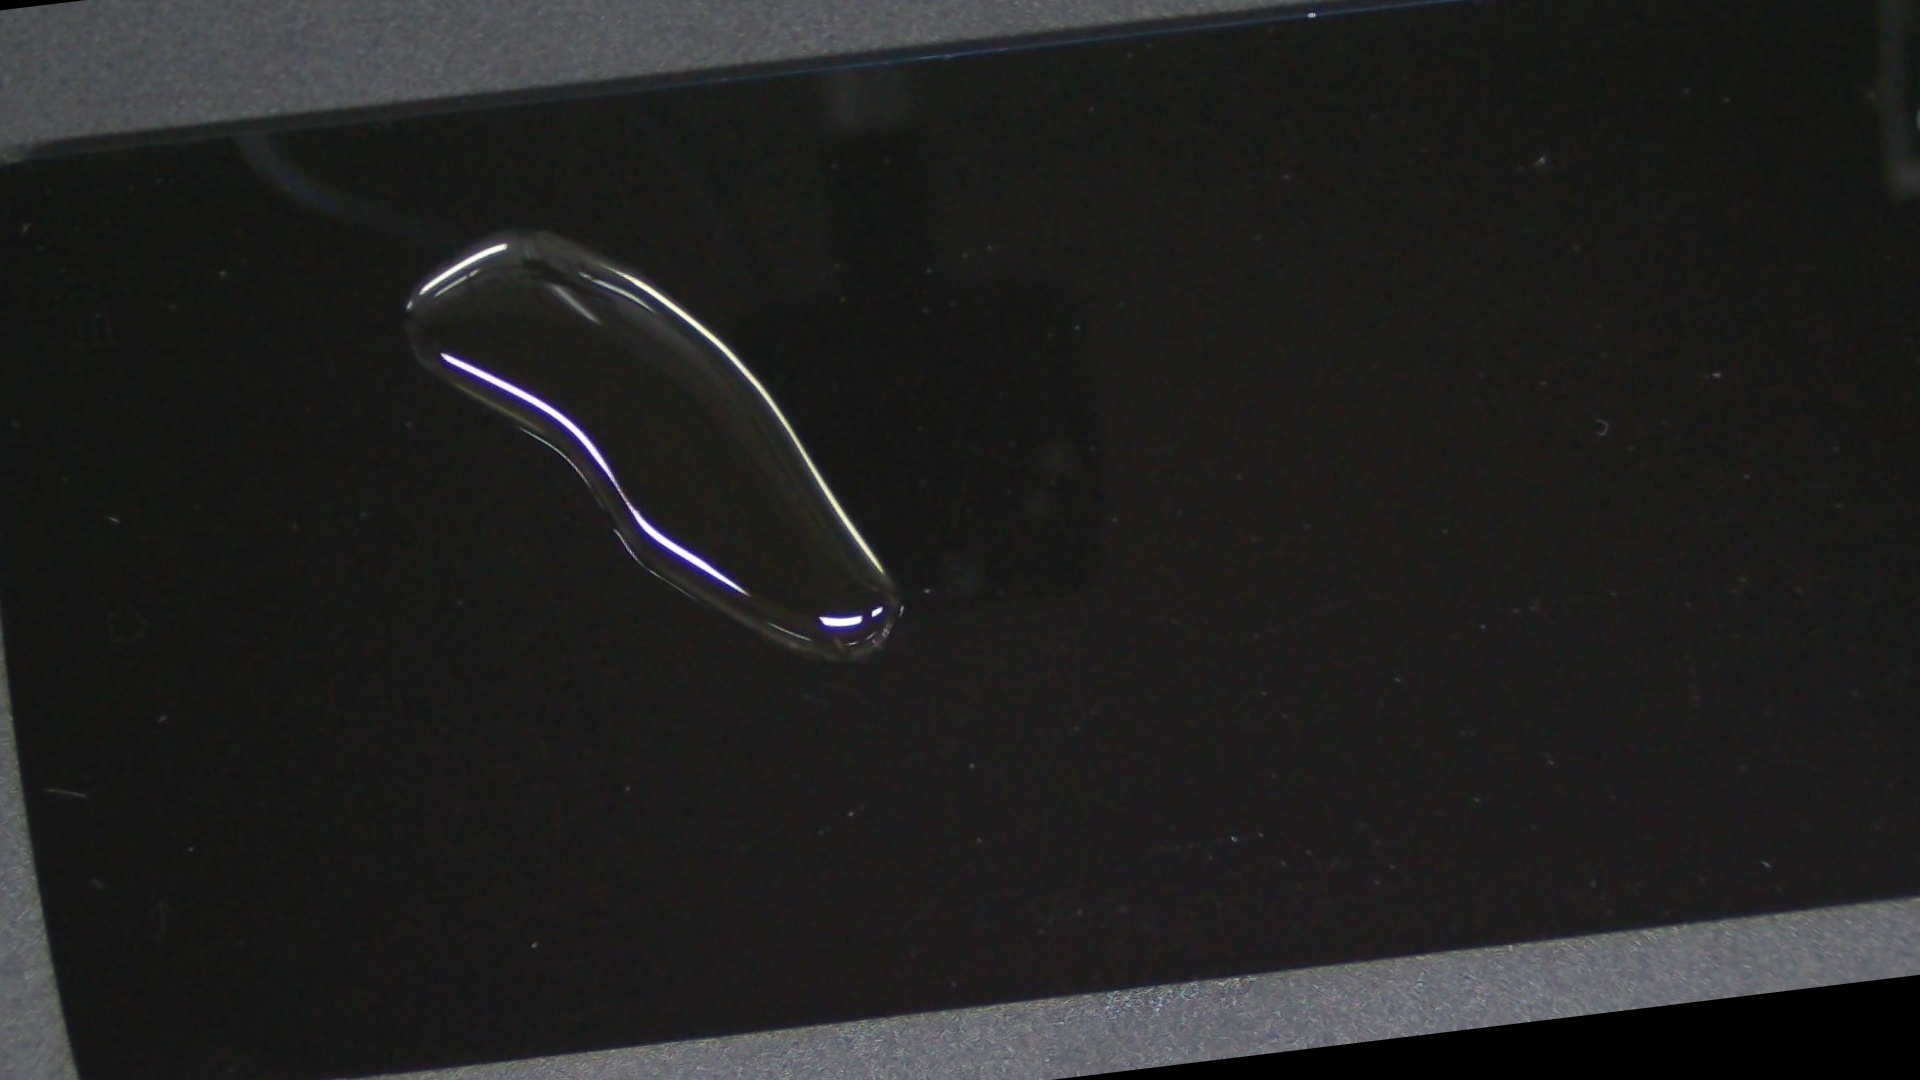oil: (154, 50, 857, 409)
